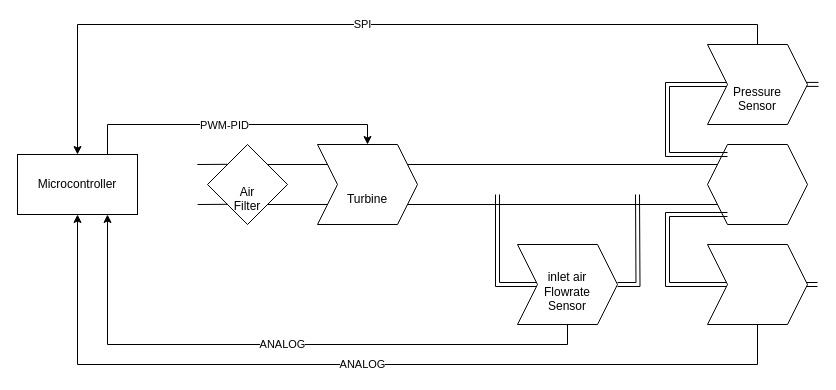
Image size: 836x390. Some labels were removed from this diagram. The centre of each missing label's shape, as x and y in pixels:
"Enclosure" goes at (x=757, y=184).
"outlet air Flowrate Sensor" goes at (x=757, y=284).
